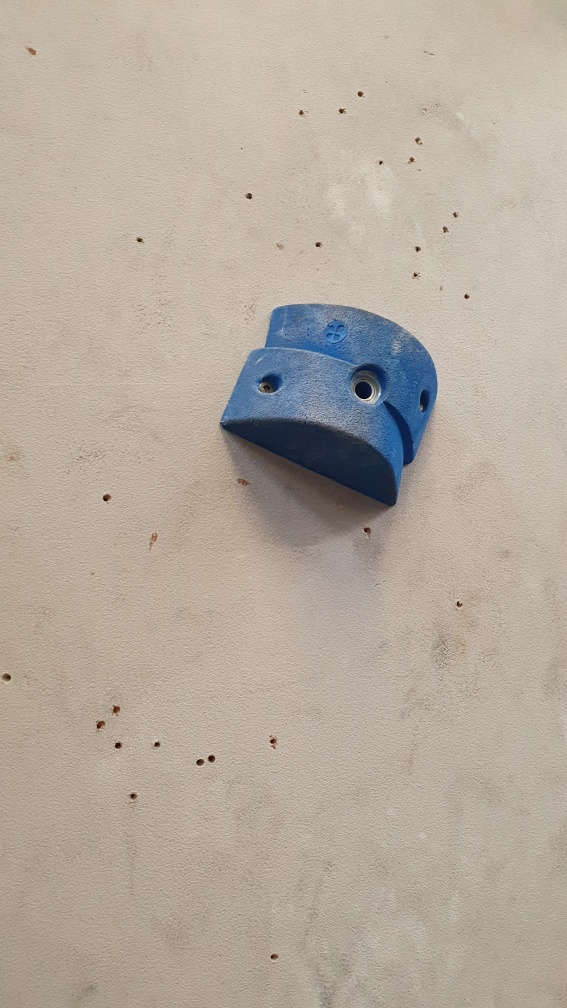Pinch: (220, 300, 443, 513)
